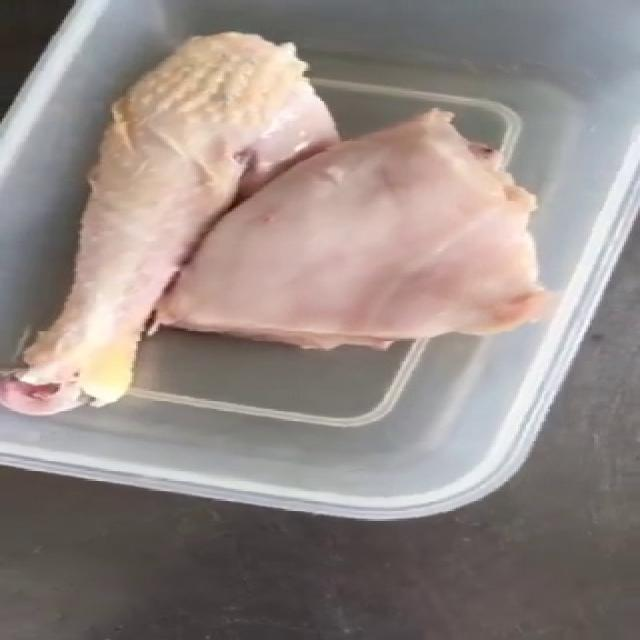chicken: (0, 29, 340, 417), (145, 106, 561, 352)
